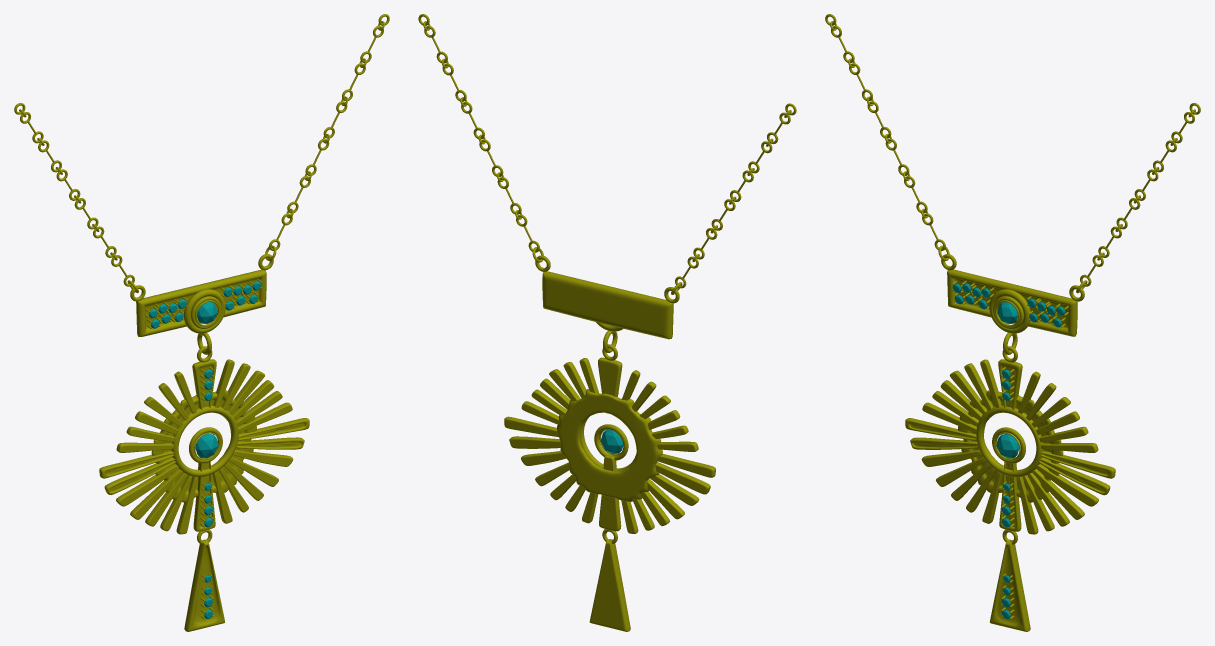
The model's file is Necklace b_L org pose.fbx.
The picture shows the model from 3 angles, left to right: view 1: azimuth 30°, elevation 25°; view 2: azimuth 150°, elevation 25°; view 3: azimuth 330°, elevation 25°; orthographic projection.
Visible parts, largest first — view 1: sun rays_L, Plate_L, chain_L, Flower_L, small gem_L, outer rings_L, iner ring_L, gem bases_L, Big Gem_L; view 2: sun rays_L, Plate_L, Flower_L, chain_L, outer rings_L; view 3: sun rays_L, Plate_L, chain_L, Flower_L, small gem_L, outer rings_L, iner ring_L, gem bases_L, Big Gem_L.
Part boxes in pixels (<box>): sun rays_L: <box>99,359,309,534</box>; Plate_L: <box>136,269,266,631</box>; chain_L: <box>14,14,389,301</box>; Flower_L: <box>151,390,256,502</box>; small gem_L: <box>149,281,261,618</box>; outer rings_L: <box>184,289,225,463</box>; iner ring_L: <box>171,405,238,476</box>; gem bases_L: <box>145,279,261,619</box>; Big Gem_L: <box>195,302,218,458</box>; sun rays_L: <box>504,357,715,533</box>; Plate_L: <box>542,271,673,631</box>; Flower_L: <box>557,389,662,501</box>; chain_L: <box>418,14,796,303</box>; outer rings_L: <box>594,322,628,460</box>; sun rays_L: <box>905,359,1115,534</box>; Plate_L: <box>947,269,1077,631</box>; chain_L: <box>825,14,1200,301</box>; Flower_L: <box>958,390,1063,502</box>; small gem_L: <box>952,283,1064,619</box>; outer rings_L: <box>989,289,1030,463</box>; iner ring_L: <box>976,405,1043,477</box>; gem bases_L: <box>952,281,1068,619</box>; Big Gem_L: <box>996,302,1019,458</box>.
Size of the model in its own units: 25.6 by 36.91 by 1.6.
